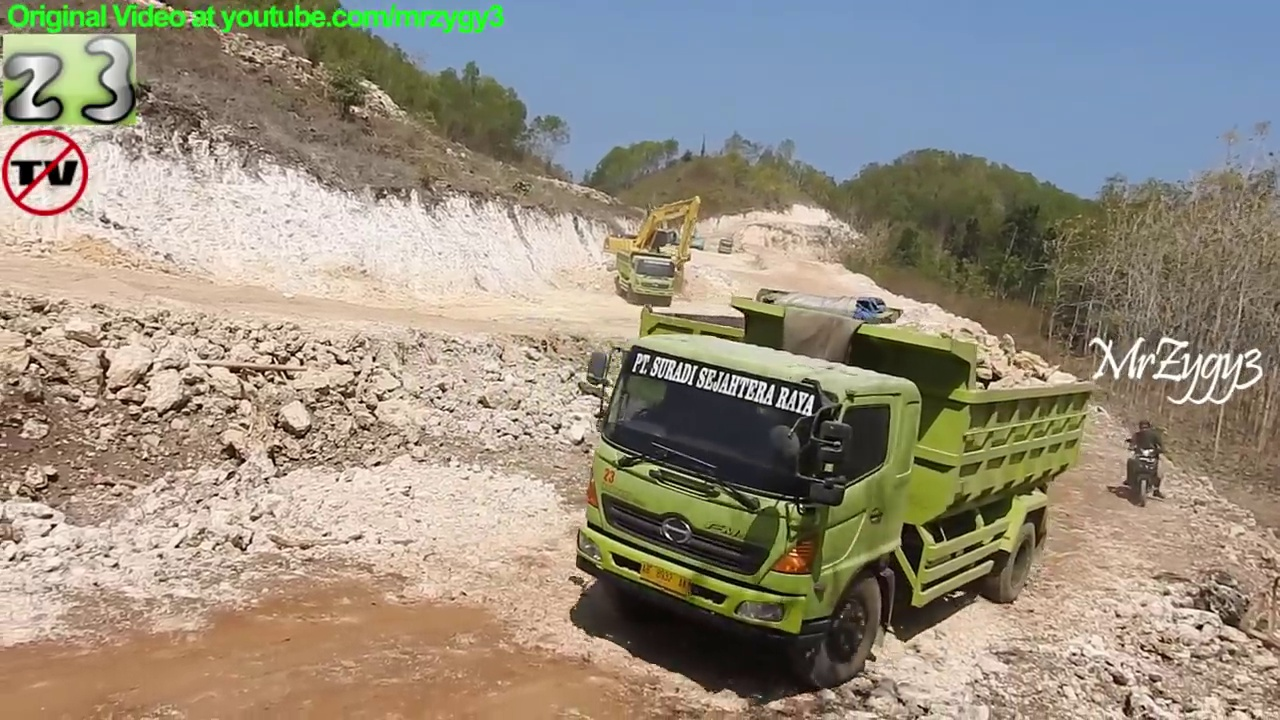excavator: (602, 195, 702, 267), (686, 219, 709, 254)
truck: (575, 296, 1099, 692), (612, 247, 681, 309), (716, 233, 738, 257)
